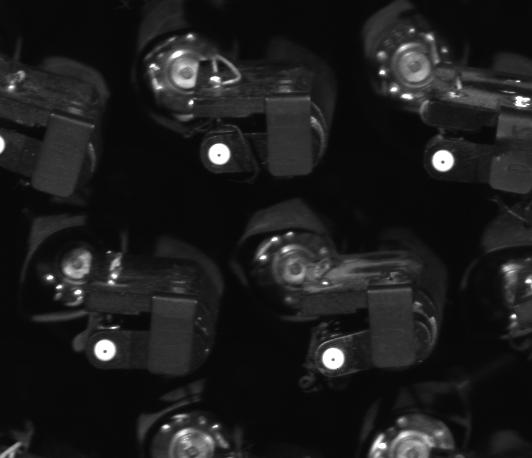fiber: (426, 144, 463, 179), (317, 342, 352, 376), (202, 138, 239, 168), (89, 335, 122, 365)
